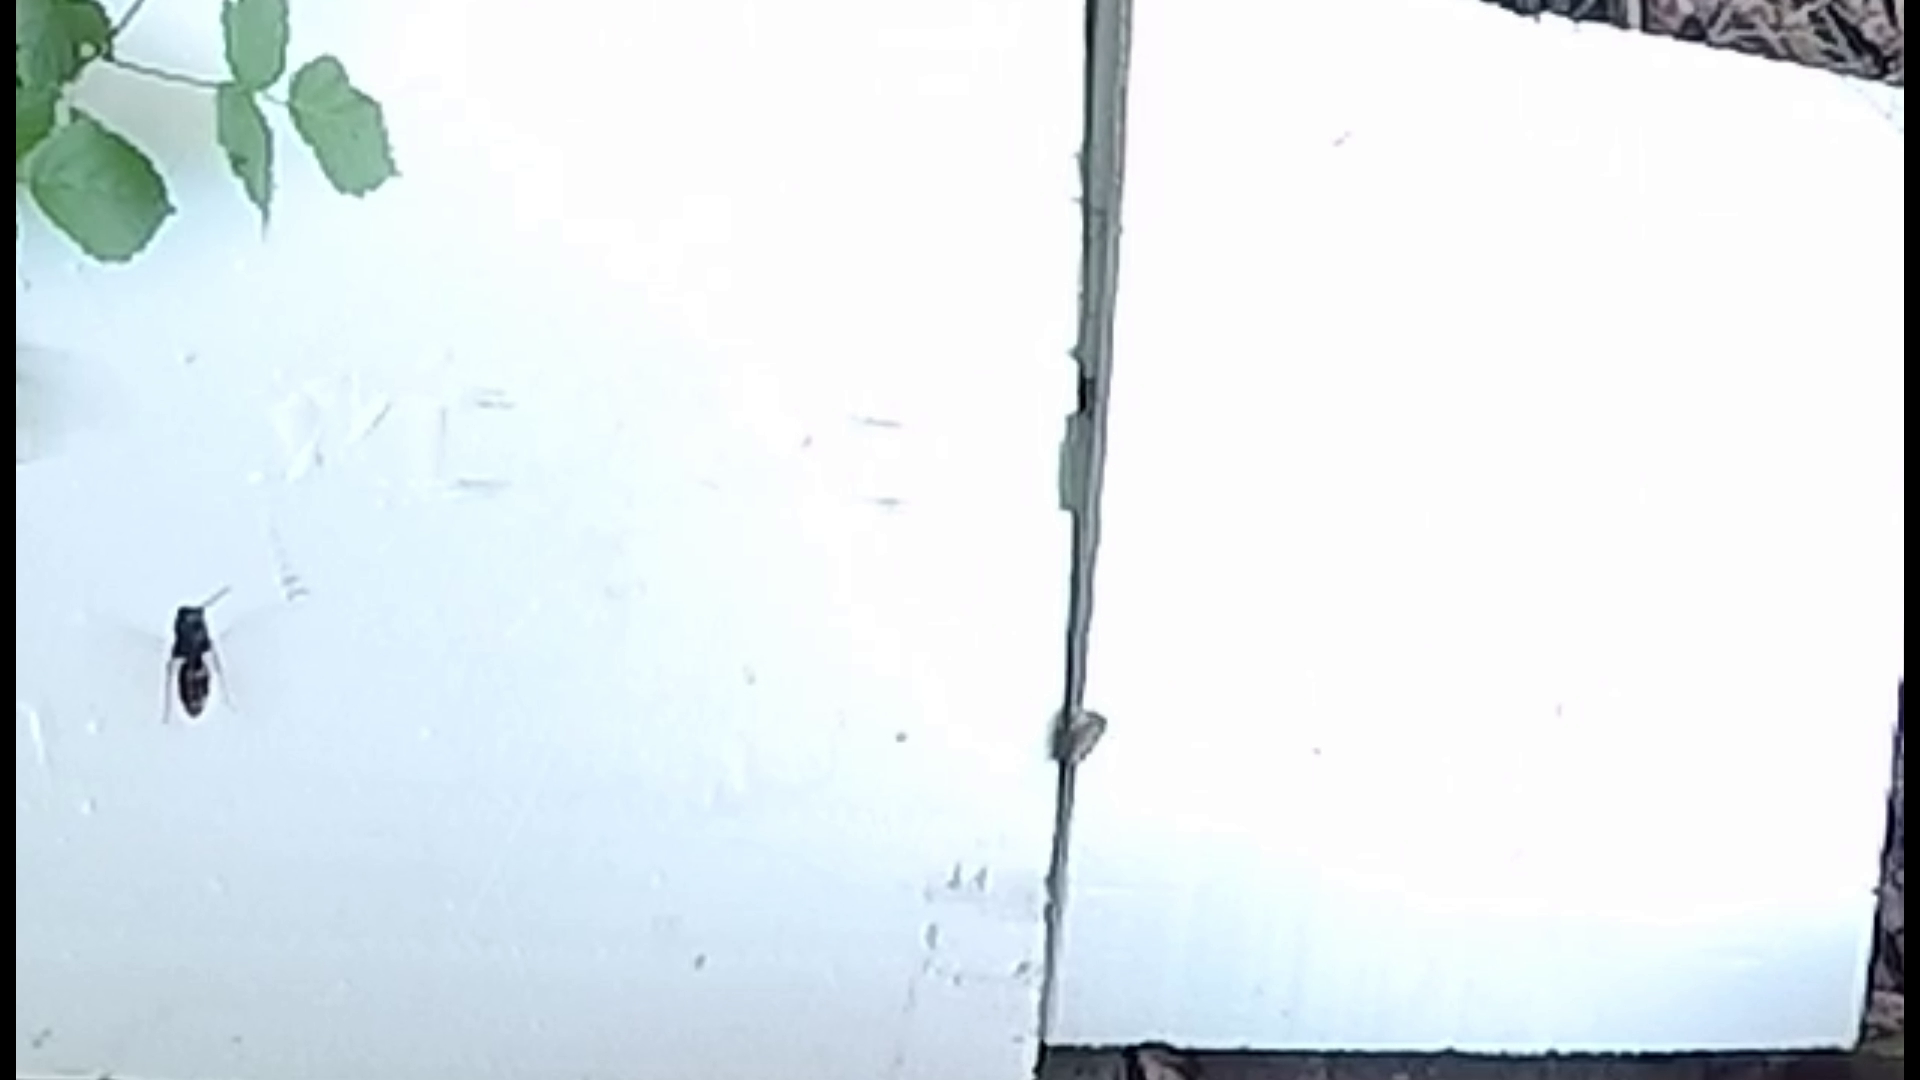Asian_hornets: (132, 568, 266, 741)
